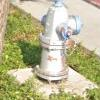a fire hydrant: (38, 0, 82, 82)
